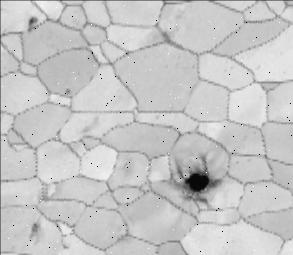good_void: (167, 151, 224, 203), (120, 157, 135, 182), (29, 217, 41, 242), (25, 15, 37, 28), (64, 86, 72, 95), (235, 159, 240, 165), (154, 115, 159, 119)
